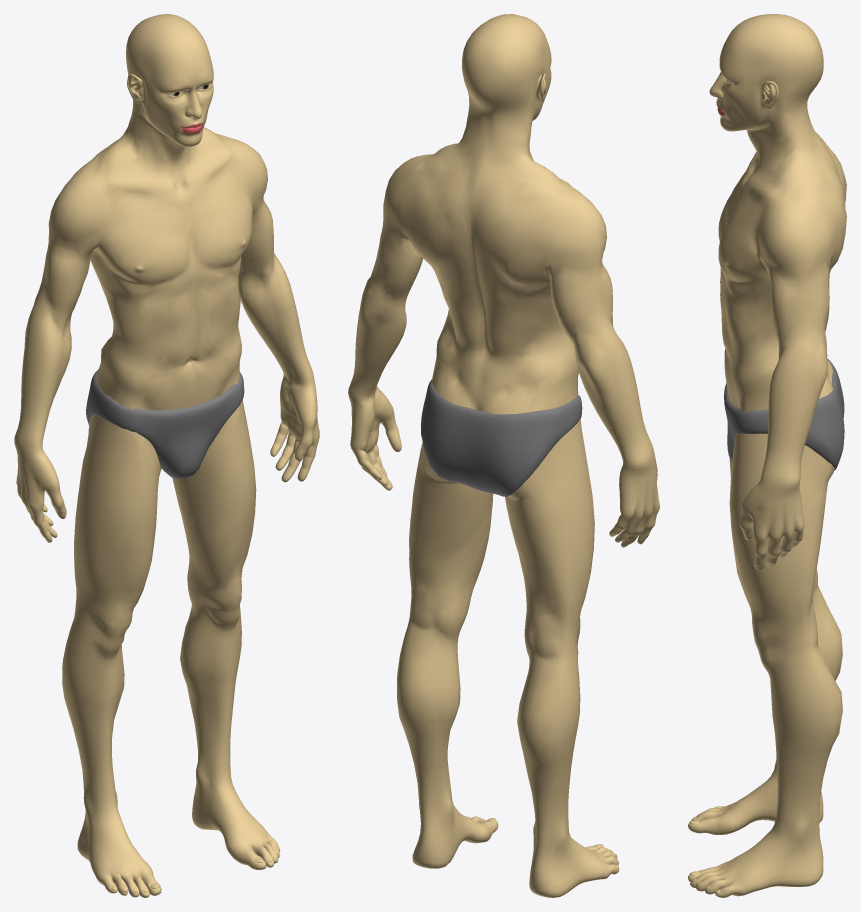
File: men.glb
3 views of the same model, side by side, from view 1: azimuth 30°, elevation 25°; view 2: azimuth 150°, elevation 25°; view 3: azimuth 270°, elevation 25° (orthographic). The views are drawn at different scales.
Parts seen in each view (by area): view 1: FreeAll.001, FreeAll.002; view 2: FreeAll.001, FreeAll.002; view 3: FreeAll.001, FreeAll.002.
Part boxes in pixels (x1=…): FreeAll.001: x1=14, y1=14, x2=319, y2=897; FreeAll.002: x1=86, y1=370, x2=244, y2=478; FreeAll.001: x1=348, y1=14, x2=659, y2=897; FreeAll.002: x1=420, y1=379, x2=582, y2=496; FreeAll.001: x1=688, y1=14, x2=846, y2=897; FreeAll.002: x1=724, y1=359, x2=844, y2=470.
Bounding box in the file's own units: 3.26 × 8.91 × 1.53.
